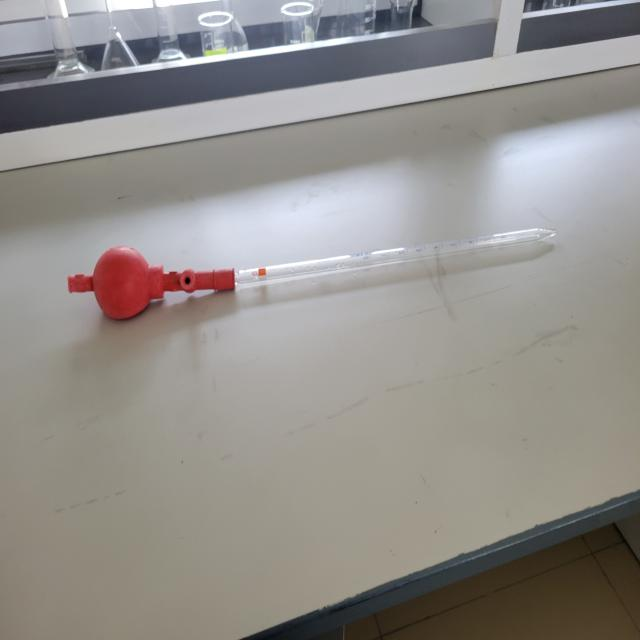Volumetric_Pipet: (43, 195, 574, 353)
